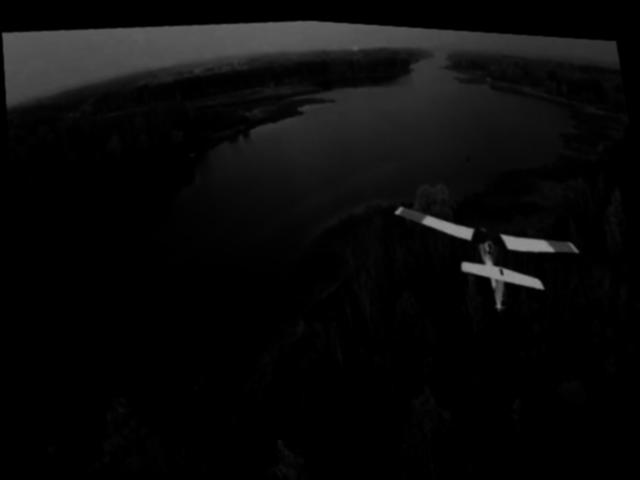hedef: (378, 173, 593, 319)
